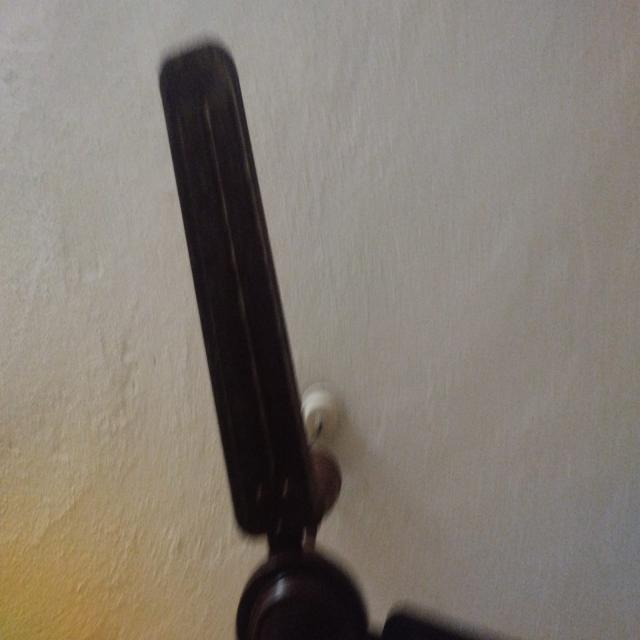fan_off: (160, 35, 640, 640)
